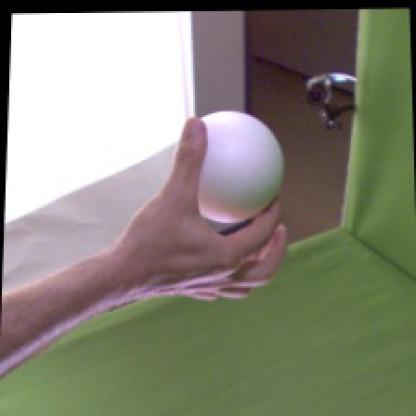Hand: (112, 116, 288, 302)
